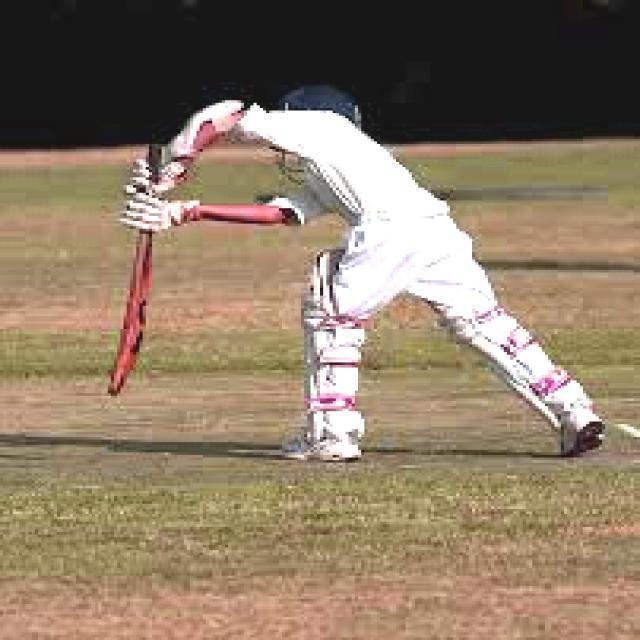bat: (103, 236, 161, 417)
toe: (100, 383, 130, 401)
